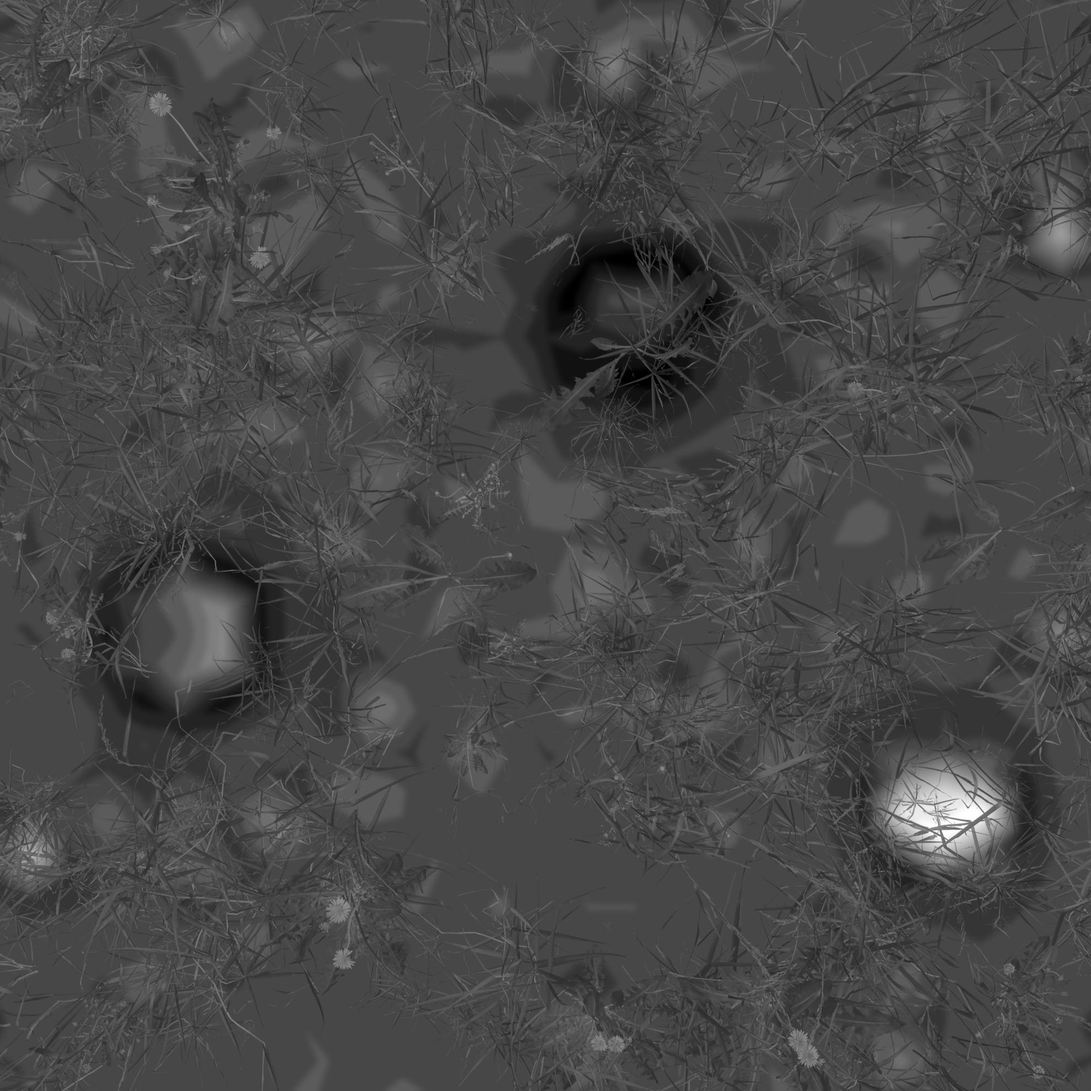landmine: (91, 531, 282, 730), (543, 230, 724, 417), (851, 710, 1037, 889)
